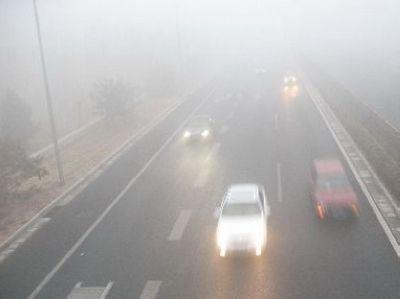car: (213, 183, 268, 258), (307, 158, 361, 221), (182, 115, 215, 142), (282, 70, 298, 85)
